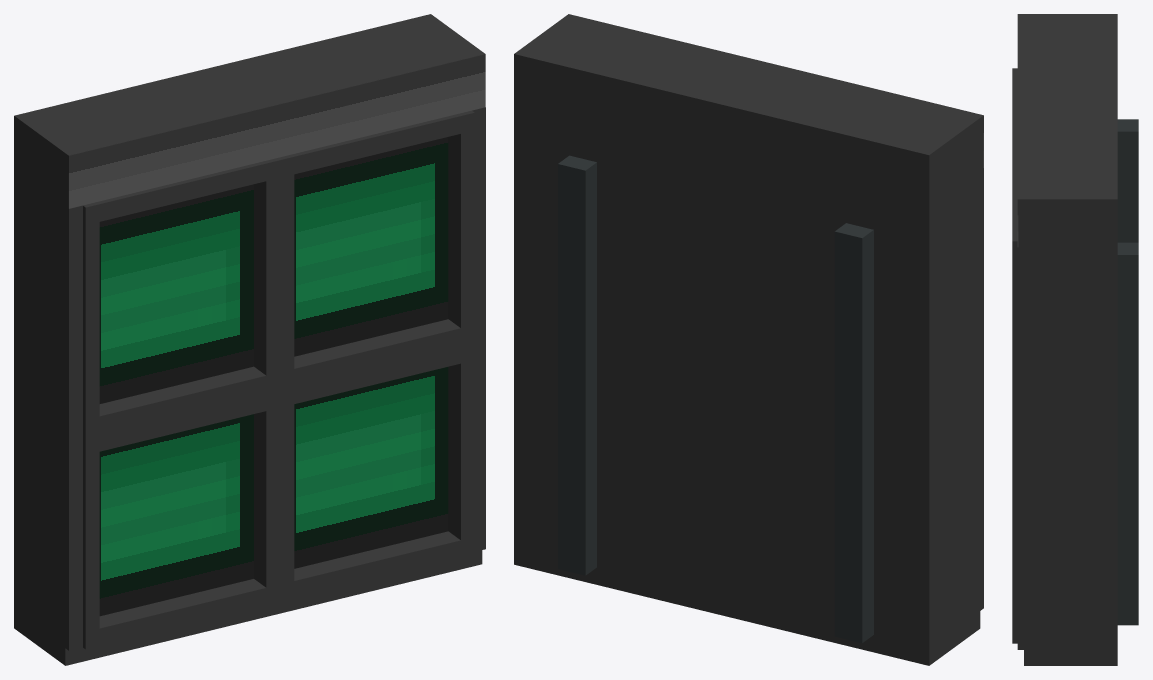
The model's file is CMU3DMultiMonitorBigCloudSouth.glb.
3 views of the same model, side by side, from view 1: azimuth 30°, elevation 25°; view 2: azimuth 150°, elevation 25°; view 3: azimuth 270°, elevation 25° (orthographic). The views are drawn at different scales.
Visible parts, largest first — view 1: display 1 recessed inset original face, display 2 recessed inset original face, display 4 recessed inset original face, display 3 recessed inset original face, full depth left chassis, upper horizontal casing original face, upper horizontal casing, left outer steel stile, display 3 upper frame, display 3 lower frame, display 1 upper frame, display 1 right frame (+10 smaller); view 2: rear cabinet wall, upper horizontal casing, left outer steel stile, full depth left chassis, rear left mounting batten, rear right mounting batten, central vertical display divider, full depth right chassis, display 3 upper frame, right outer steel stile; view 3: full depth right chassis, right outer steel stile, upper horizontal casing, rear right mounting batten, rear cabinet wall, rear left mounting batten, display 1 upper frame, display 2 right frame, display 4 right frame, full depth left chassis, upper horizontal casing original face.
Part boxes in pixels (x1=…): display 1 recessed inset original face: x1=99, y1=184, x2=253, y2=403; display 2 recessed inset original face: x1=294, y1=137, x2=448, y2=356; display 4 recessed inset original face: x1=294, y1=367, x2=448, y2=568; display 3 recessed inset original face: x1=99, y1=414, x2=253, y2=616; full depth left chassis: x1=14, y1=112, x2=79, y2=665; upper horizontal casing original face: x1=68, y1=54, x2=485, y2=208; upper horizontal casing: x1=14, y1=14, x2=484, y2=208; left outer steel stile: x1=14, y1=169, x2=82, y2=650; display 3 upper frame: x1=83, y1=319, x2=474, y2=454; display 3 lower frame: x1=83, y1=531, x2=474, y2=649; display 1 upper frame: x1=83, y1=110, x2=474, y2=224; display 1 right frame: x1=264, y1=174, x2=294, y2=375; rear cabinet wall: x1=528, y1=51, x2=923, y2=662; upper horizontal casing: x1=514, y1=14, x2=983, y2=207; left outer steel stile: x1=915, y1=168, x2=983, y2=648; full depth left chassis: x1=915, y1=114, x2=980, y2=665; rear left mounting batten: x1=834, y1=223, x2=873, y2=643; rear right mounting batten: x1=558, y1=155, x2=596, y2=575; central vertical display divider: x1=707, y1=154, x2=735, y2=600; full depth right chassis: x1=514, y1=16, x2=577, y2=567; display 3 upper frame: x1=528, y1=321, x2=914, y2=450; right outer steel stile: x1=514, y1=107, x2=527, y2=549; full depth right chassis: x1=1024, y1=193, x2=1117, y2=665; right outer steel stile: x1=1017, y1=247, x2=1117, y2=649; upper horizontal casing: x1=1018, y1=14, x2=1117, y2=247; rear right mounting batten: x1=1117, y1=242, x2=1138, y2=625; rear cabinet wall: x1=1101, y1=20, x2=1117, y2=192; rear left mounting batten: x1=1117, y1=119, x2=1138, y2=242; display 1 upper frame: x1=1012, y1=68, x2=1017, y2=257; display 2 right frame: x1=1012, y1=257, x2=1017, y2=434; display 4 right frame: x1=1012, y1=466, x2=1017, y2=627; full depth left chassis: x1=1024, y1=14, x2=1117, y2=20; upper horizontal casing original face: x1=1017, y1=14, x2=1018, y2=246.
Bounding box in the file's own units: 0.9375 × 1.1 × 0.27.
6 materials, 3 textured.
